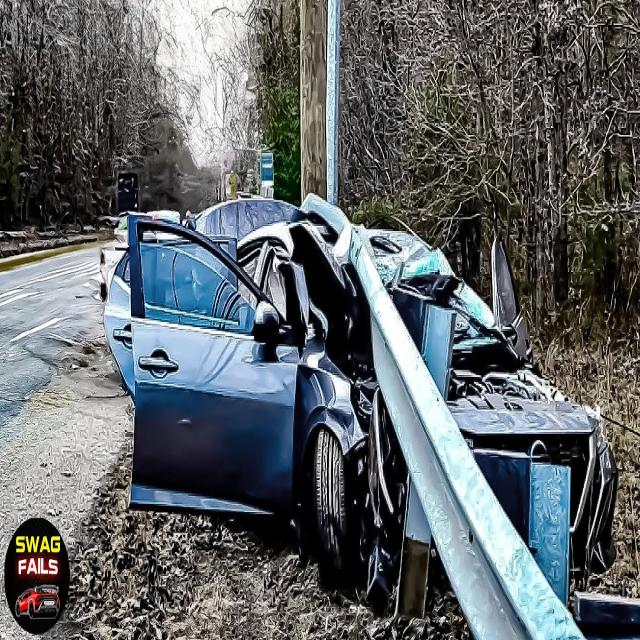car-serious-accident: (105, 159, 628, 616)
